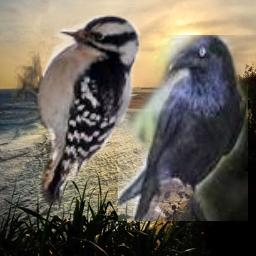Crow: (118, 35, 248, 221)
Woodpecker: (11, 15, 141, 205)
